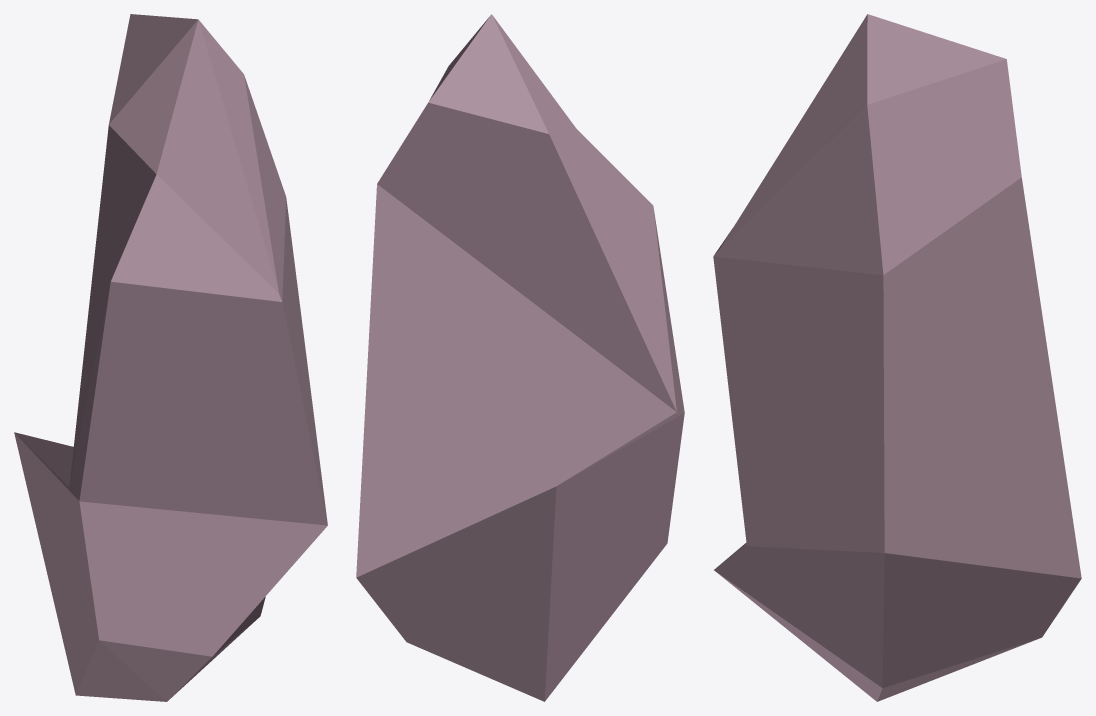
Rendered from rock2.fbx.
3 renders of one model, left to right at view 1: azimuth 30°, elevation 25°; view 2: azimuth 150°, elevation 25°; view 3: azimuth 270°, elevation 25°, orthographic. The views are drawn at different scales.
Visible parts, largest first — view 1: pSphere1; view 2: pSphere1; view 3: pSphere1.
Part boxes in pixels (x1,y1,x2,y2): pSphere1: [14, 14, 327, 701]; pSphere1: [356, 14, 684, 701]; pSphere1: [713, 14, 1081, 701].
Size of the model in its own units: 3.64 by 8.58 by 4.08.
